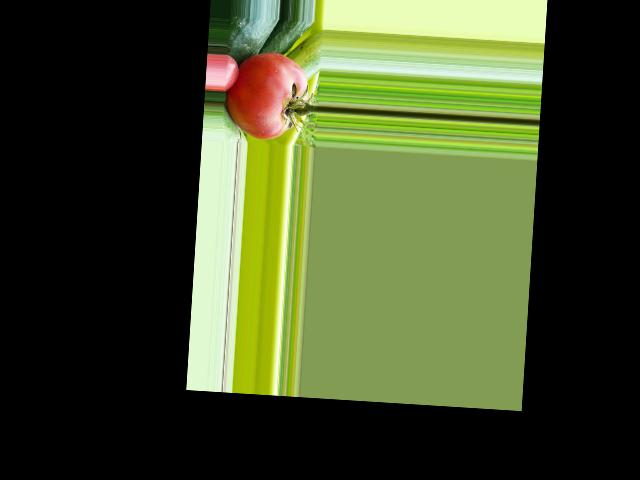tomato: (223, 50, 309, 142)
